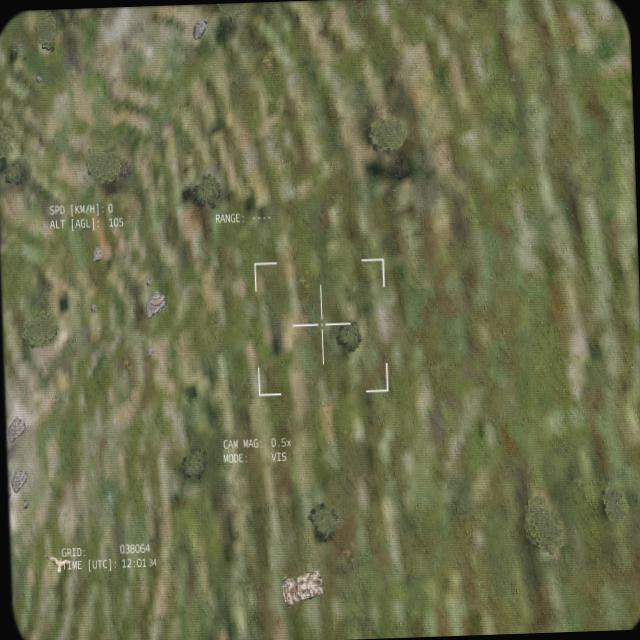apc: (280, 568, 324, 608)
